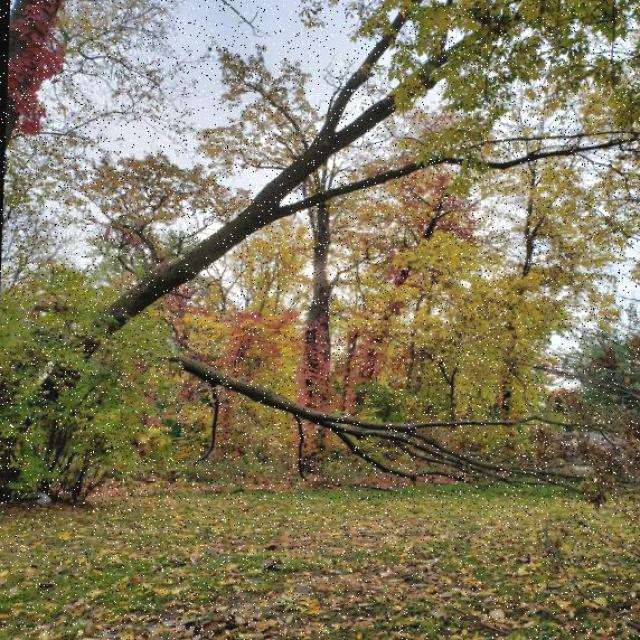fallen_object: (131, 330, 640, 523)
